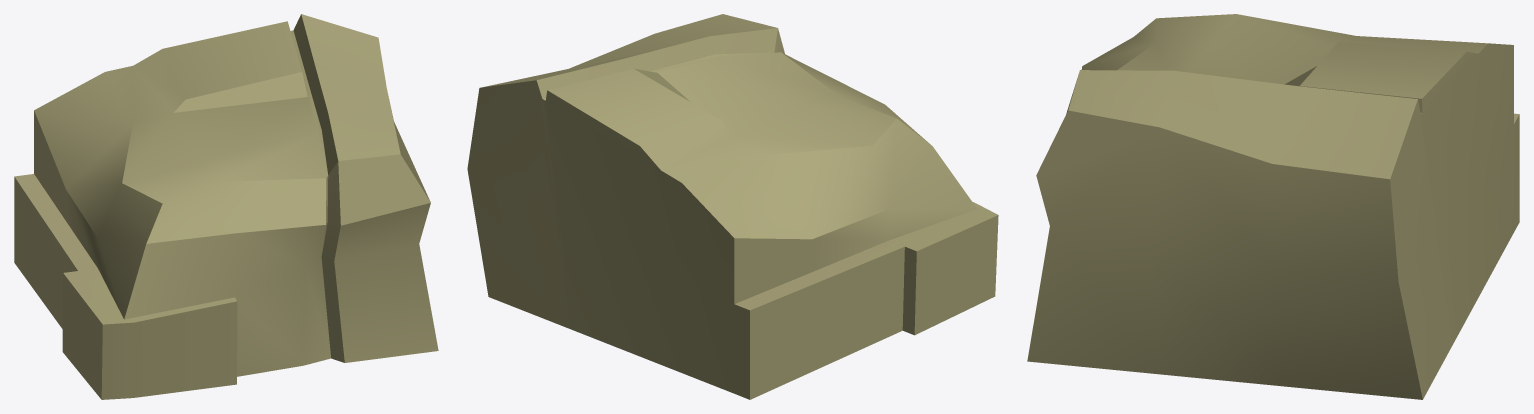
File: rock.glb
3 renders of one model, left to right at view 1: azimuth 30°, elevation 25°; view 2: azimuth 150°, elevation 25°; view 3: azimuth 270°, elevation 25°, orthographic. The views are drawn at different scales.
Parts seen in each view (by area): view 1: Cube; view 2: Cube; view 3: Cube.
Part boxes in pixels (x1=…): Cube: x1=14, y1=14, x2=438, y2=399; Cube: x1=467, y1=14, x2=998, y2=399; Cube: x1=1027, y1=14, x2=1519, y2=399.
Bounding box in the file's own units: 1.05 × 0.5546 × 0.9019.
1 material, 1 textured.
